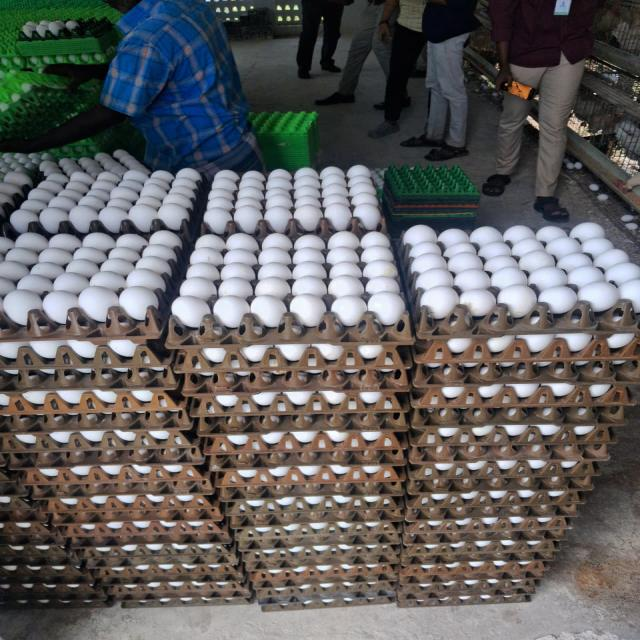egg_tray: (167, 232, 412, 413), (167, 232, 412, 372), (167, 232, 412, 370), (0, 231, 181, 413), (167, 231, 412, 348), (402, 223, 639, 339), (400, 481, 575, 605), (0, 230, 181, 341), (5, 150, 201, 236), (403, 487, 583, 580), (205, 417, 406, 500), (413, 333, 637, 406), (0, 369, 191, 454), (413, 332, 636, 404), (21, 464, 221, 544), (0, 388, 199, 468), (407, 423, 614, 496), (216, 448, 404, 528), (20, 450, 219, 524), (413, 301, 638, 366), (174, 343, 412, 404), (0, 389, 197, 462), (174, 344, 411, 404), (407, 426, 614, 492), (54, 495, 237, 568), (412, 380, 624, 440), (9, 432, 204, 496), (0, 493, 230, 547), (203, 166, 384, 234), (0, 368, 183, 432), (41, 484, 227, 546), (215, 449, 404, 510), (79, 537, 251, 604), (0, 339, 177, 404), (221, 465, 402, 528), (203, 417, 407, 470), (412, 360, 637, 408), (78, 541, 247, 604), (184, 369, 409, 416), (407, 442, 608, 494), (185, 368, 407, 414), (416, 300, 637, 346), (405, 458, 598, 510), (203, 424, 407, 473), (3, 153, 127, 233), (413, 362, 637, 406), (215, 450, 404, 502), (243, 536, 399, 598), (243, 537, 399, 598), (409, 414, 615, 459), (212, 450, 404, 498), (11, 452, 211, 498), (233, 516, 401, 570), (248, 543, 397, 603), (76, 536, 245, 586), (236, 520, 401, 570), (0, 430, 204, 470), (413, 331, 639, 367), (413, 360, 639, 396), (235, 522, 401, 571), (409, 442, 607, 483), (182, 369, 410, 404), (203, 431, 407, 470), (405, 488, 585, 532), (409, 424, 615, 462), (172, 343, 413, 375), (0, 410, 192, 450), (407, 480, 592, 520), (249, 549, 397, 598), (249, 556, 397, 605), (406, 487, 581, 528), (0, 366, 178, 406), (398, 559, 548, 606), (215, 464, 405, 501), (255, 494, 401, 542), (0, 542, 106, 608), (407, 458, 599, 494), (405, 490, 583, 528), (20, 464, 213, 499), (407, 405, 627, 434), (0, 368, 177, 404), (197, 406, 409, 436), (403, 516, 570, 554), (411, 382, 633, 410), (399, 561, 543, 604), (189, 390, 409, 418), (0, 339, 175, 374), (225, 494, 403, 528), (383, 165, 479, 228), (409, 418, 614, 447), (57, 514, 231, 548), (189, 390, 407, 417), (225, 495, 403, 528), (411, 382, 634, 408), (405, 488, 585, 520), (40, 494, 223, 525), (245, 527, 379, 568), (0, 557, 106, 608), (219, 473, 403, 502), (1, 388, 184, 417), (31, 580, 248, 604), (467, 445, 594, 486), (16, 16, 119, 66), (0, 560, 106, 608), (105, 574, 252, 608), (398, 572, 539, 607), (397, 572, 538, 607), (400, 559, 549, 592), (57, 520, 231, 548), (0, 469, 63, 546), (403, 516, 571, 544), (73, 542, 240, 570), (401, 535, 561, 564), (401, 538, 559, 565), (255, 574, 396, 604), (400, 558, 549, 586), (398, 576, 537, 606), (109, 580, 253, 608), (399, 560, 549, 586), (403, 524, 565, 548), (255, 575, 396, 602), (106, 578, 252, 603), (93, 562, 245, 586), (0, 152, 54, 218), (0, 583, 113, 608), (0, 582, 108, 608), (0, 504, 63, 548), (259, 592, 395, 612), (0, 534, 79, 568), (403, 578, 537, 596), (0, 559, 93, 584), (397, 591, 530, 608), (0, 493, 47, 538), (1, 544, 81, 568), (0, 594, 111, 610), (0, 152, 55, 182), (122, 596, 253, 608), (30, 488, 77, 520), (0, 493, 46, 522), (19, 20, 79, 41), (282, 218, 339, 239), (0, 466, 27, 503), (0, 468, 27, 502), (342, 218, 387, 236), (464, 460, 514, 474), (586, 383, 616, 404), (248, 221, 279, 241), (401, 576, 430, 597), (307, 508, 348, 521), (147, 482, 171, 504), (429, 462, 455, 482), (566, 333, 605, 346), (301, 432, 342, 444), (214, 222, 244, 238), (227, 500, 264, 512), (409, 505, 437, 520), (31, 342, 65, 353), (620, 212, 638, 231), (234, 518, 253, 536), (371, 168, 385, 192), (259, 527, 273, 547), (316, 544, 339, 556), (49, 498, 74, 509), (433, 448, 455, 460), (407, 480, 425, 494), (587, 446, 605, 460), (13, 472, 27, 490), (505, 425, 527, 436), (127, 160, 147, 172), (511, 501, 529, 514), (441, 386, 459, 399), (529, 334, 554, 343), (211, 457, 231, 468), (77, 452, 95, 464), (435, 572, 456, 582), (44, 216, 57, 232), (609, 334, 635, 342), (25, 439, 49, 447), (461, 448, 477, 460), (383, 434, 400, 445), (219, 474, 237, 484), (169, 450, 185, 461), (11, 590, 31, 598), (339, 530, 352, 542), (478, 426, 493, 436), (437, 342, 449, 354), (519, 426, 537, 434), (111, 452, 125, 462), (0, 453, 8, 468), (541, 425, 553, 435), (410, 464, 427, 471), (0, 454, 8, 468), (367, 544, 381, 552), (102, 482, 113, 492), (388, 400, 399, 410), (486, 510, 507, 515), (442, 464, 455, 472), (52, 516, 65, 524), (201, 224, 211, 234), (0, 343, 14, 350), (412, 536, 426, 543), (484, 582, 498, 589), (43, 468, 59, 474), (541, 494, 550, 504), (533, 464, 542, 474), (69, 188, 79, 197), (472, 462, 481, 472), (59, 433, 77, 438), (410, 526, 422, 533), (77, 514, 87, 522), (411, 522, 427, 527), (411, 546, 424, 552), (422, 511, 433, 518), (417, 450, 423, 462), (590, 439, 599, 447), (611, 420, 623, 426), (443, 430, 455, 436), (441, 504, 455, 509), (385, 356, 399, 361), (564, 430, 575, 436), (69, 498, 77, 506), (327, 346, 343, 350), (627, 345, 634, 354), (284, 434, 294, 440), (45, 491, 55, 497), (11, 538, 23, 543), (371, 298, 377, 308), (55, 220, 67, 225), (554, 522, 564, 528), (483, 519, 493, 525), (13, 517, 25, 522), (417, 416, 425, 423), (417, 554, 424, 562), (13, 399, 21, 406), (42, 469, 53, 474), (197, 567, 208, 572), (52, 528, 61, 534), (62, 487, 68, 496), (99, 453, 109, 458), (387, 556, 397, 561), (359, 439, 367, 445), (229, 436, 237, 442), (408, 514, 416, 520), (500, 460, 512, 464), (573, 487, 589, 490), (211, 566, 219, 572), (471, 561, 483, 565), (476, 544, 488, 548), (527, 431, 532, 440), (447, 562, 462, 565), (0, 540, 11, 544), (101, 486, 112, 490), (0, 480, 3, 494), (121, 503, 127, 510), (17, 474, 24, 480), (5, 238, 11, 245), (566, 478, 571, 486), (385, 317, 395, 321), (225, 568, 235, 572), (401, 576, 406, 584), (182, 352, 187, 360), (175, 569, 184, 573), (21, 434, 30, 438), (298, 518, 305, 523), (155, 505, 162, 510), (297, 501, 304, 506), (523, 561, 534, 564), (76, 32, 84, 36), (559, 470, 563, 478), (19, 182, 27, 186), (447, 338, 455, 342), (378, 514, 386, 518), (232, 600, 242, 603), (89, 343, 95, 348), (89, 436, 95, 441), (473, 562, 483, 565), (283, 345, 293, 348), (376, 434, 380, 441), (487, 484, 494, 488), (616, 422, 623, 426), (87, 492, 94, 496), (72, 468, 79, 472), (350, 394, 354, 401), (244, 503, 251, 507), (225, 464, 232, 468), (433, 520, 447, 522), (0, 523, 9, 526), (535, 512, 544, 515), (70, 391, 79, 394), (140, 454, 149, 457), (424, 563, 433, 566), (122, 503, 127, 508), (160, 486, 165, 491), (267, 460, 275, 463), (553, 478, 557, 484), (587, 426, 593, 430), (603, 362, 609, 366), (387, 362, 393, 366), (31, 560, 37, 564), (43, 460, 47, 466), (339, 424, 345, 428), (407, 562, 419, 564), (405, 524, 408, 531), (78, 490, 83, 494), (21, 456, 26, 460), (16, 440, 21, 444), (467, 582, 477, 584), (486, 338, 491, 342), (555, 427, 559, 432), (69, 443, 75, 446), (409, 465, 411, 474), (60, 440, 66, 443), (5, 517, 11, 520), (356, 546, 365, 548), (40, 540, 49, 542), (81, 450, 84, 456), (53, 206, 59, 209), (114, 570, 117, 576), (451, 520, 454, 526), (439, 578, 443, 582), (115, 498, 119, 502), (139, 514, 143, 518), (161, 496, 165, 500), (61, 434, 69, 436), (291, 468, 295, 472), (225, 596, 233, 598), (451, 399, 456, 402), (472, 363, 477, 366), (37, 428, 42, 431), (159, 419, 164, 422), (496, 477, 501, 480), (309, 518, 312, 523), (177, 485, 180, 490), (166, 571, 171, 574), (468, 575, 473, 578), (52, 460, 57, 463), (0, 401, 5, 404), (240, 416, 243, 421), (230, 491, 235, 494), (589, 350, 592, 355), (211, 602, 226, 603), (333, 444, 336, 448), (475, 512, 481, 514), (569, 504, 575, 506), (124, 436, 128, 439), (72, 490, 75, 494), (140, 476, 143, 480), (469, 548, 472, 552), (405, 539, 409, 542), (207, 489, 211, 492), (63, 532, 67, 535), (309, 504, 312, 508), (432, 349, 435, 353), (407, 566, 413, 568), (245, 478, 251, 480), (283, 518, 287, 521), (372, 540, 378, 542), (335, 487, 339, 490), (627, 265, 633, 267), (541, 522, 543, 528), (36, 602, 39, 606), (405, 524, 407, 530), (58, 426, 63, 428), (407, 500, 409, 505), (461, 601, 466, 603), (543, 461, 545, 466), (592, 380, 597, 382), (13, 192, 18, 194), (527, 350, 529, 355), (138, 458, 141, 461), (483, 474, 486, 477), (416, 410, 419, 413), (67, 509, 70, 512), (114, 498, 117, 501), (87, 487, 90, 490), (347, 498, 350, 501), (280, 361, 283, 364), (217, 602, 226, 603), (326, 467, 329, 470), (49, 534, 52, 537), (268, 438, 272, 440), (471, 504, 475, 506), (477, 504, 481, 506), (459, 504, 463, 506), (509, 398, 513, 400), (549, 364, 553, 366), (133, 344, 135, 348), (46, 532, 50, 534), (558, 456, 562, 458), (77, 488, 81, 490), (309, 512, 313, 514), (617, 402, 621, 404), (85, 178, 87, 182), (408, 566, 412, 568), (515, 522, 519, 524), (452, 428, 456, 430), (157, 496, 161, 498), (79, 488, 81, 492), (115, 396, 117, 400), (187, 448, 189, 452), (343, 406, 347, 408), (357, 518, 361, 520), (271, 461, 275, 463), (289, 592, 293, 594), (303, 438, 307, 440), (422, 325, 424, 329), (240, 459, 242, 462), (371, 442, 374, 444), (521, 440, 527, 441), (443, 400, 449, 401), (171, 385, 174, 387), (272, 522, 275, 524), (367, 487, 369, 490), (150, 508, 153, 510), (127, 489, 133, 490), (110, 469, 112, 472), (76, 562, 79, 564), (116, 152, 119, 154), (228, 576, 231, 578), (507, 461, 509, 464), (556, 428, 559, 430), (529, 428, 532, 430), (497, 427, 503, 428), (145, 514, 147, 517), (105, 488, 108, 490), (480, 546, 483, 548), (23, 456, 26, 458), (270, 419, 272, 422), (524, 346, 526, 349), (488, 585, 490, 588), (275, 407, 277, 410), (259, 503, 261, 506), (263, 608, 266, 610), (484, 428, 486, 431), (585, 362, 590, 363), (447, 594, 452, 595), (32, 562, 36, 563), (300, 352, 302, 354), (489, 590, 491, 592), (470, 369, 474, 370), (99, 438, 101, 440), (581, 478, 583, 480), (14, 496, 15, 500), (140, 516, 142, 518), (178, 502, 180, 504), (97, 496, 99, 498), (207, 490, 209, 492), (61, 434, 63, 436), (185, 300, 187, 302), (519, 556, 521, 558), (483, 540, 485, 542), (21, 458, 23, 460), (199, 430, 201, 432), (299, 504, 301, 506), (339, 480, 341, 482), (248, 474, 252, 475), (503, 355, 505, 357), (483, 350, 485, 352), (456, 338, 458, 340), (457, 563, 461, 564), (414, 305, 416, 307), (275, 370, 277, 372), (189, 348, 191, 350), (355, 470, 359, 471), (27, 522, 29, 524), (235, 602, 239, 603), (505, 544, 507, 546), (245, 596, 247, 598), (194, 489, 197, 490), (514, 433, 517, 434), (590, 427, 593, 428), (138, 509, 141, 510), (74, 181, 77, 182), (519, 552, 520, 555), (71, 437, 74, 438), (503, 354, 506, 355), (183, 489, 185, 490), (307, 454, 308, 456), (331, 440, 332, 442), (533, 418, 534, 420), (496, 441, 497, 443), (501, 439, 502, 441), (470, 436, 472, 437), (602, 381, 604, 382), (546, 481, 547, 483), (456, 475, 457, 477), (410, 473, 411, 475), (448, 420, 450, 421), (479, 449, 481, 450), (193, 489, 195, 490), (83, 485, 85, 486), (54, 202, 55, 204), (531, 540, 533, 541), (493, 464, 494, 466), (69, 516, 71, 517), (160, 398, 161, 400), (29, 396, 31, 397), (519, 600, 521, 601), (72, 438, 74, 439), (276, 364, 277, 366), (440, 398, 441, 400), (431, 398, 433, 399), (469, 576, 471, 577), (493, 434, 494, 435), (187, 440, 188, 441), (443, 453, 444, 454), (173, 501, 174, 502), (58, 462, 59, 463), (520, 583, 521, 584), (280, 429, 281, 430), (458, 358, 459, 359), (469, 341, 470, 342), (327, 600, 328, 601), (247, 549, 248, 550), (451, 316, 452, 317), (416, 585, 417, 586), (320, 592, 321, 592), (351, 537, 353, 537), (186, 490, 187, 490), (234, 461, 235, 461), (338, 445, 339, 445), (354, 443, 356, 443), (240, 437, 241, 437), (280, 434, 282, 434), (89, 36, 90, 36), (83, 21, 83, 21), (440, 514, 442, 514), (530, 514, 532, 514), (496, 505, 499, 505), (512, 468, 514, 468), (543, 461, 543, 462), (402, 605, 408, 605), (487, 601, 488, 601), (410, 601, 413, 601), (536, 576, 539, 576), (421, 570, 421, 570), (450, 565, 452, 565), (544, 467, 545, 467), (458, 465, 459, 465), (505, 452, 507, 452), (363, 397, 364, 397), (430, 398, 432, 398), (599, 374, 601, 374), (365, 537, 365, 537), (190, 439, 192, 439), (36, 399, 37, 399), (54, 448, 55, 448), (125, 427, 126, 427), (69, 392, 73, 392), (74, 390, 77, 390), (249, 470, 250, 470), (476, 487, 479, 487), (427, 457, 428, 457), (31, 514, 34, 514), (5, 457, 6, 457), (495, 458, 496, 458), (273, 396, 274, 396), (3, 497, 6, 497), (305, 516, 305, 517), (90, 543, 92, 543), (309, 554, 310, 554), (129, 508, 130, 508), (139, 444, 139, 446), (139, 439, 141, 439), (172, 468, 174, 468), (54, 457, 55, 457), (160, 450, 161, 450), (274, 567, 275, 567), (11, 561, 12, 561), (25, 548, 26, 548), (45, 232, 45, 232), (458, 521, 462, 521), (543, 462, 543, 463), (444, 428, 446, 428), (91, 356, 92, 356), (0, 490, 1, 490), (120, 518, 121, 518), (183, 490, 185, 490), (27, 464, 27, 466), (0, 361, 1, 361), (531, 592, 532, 592), (530, 585, 532, 585), (409, 583, 410, 583), (453, 570, 454, 570), (443, 567, 443, 569), (412, 568, 413, 568), (76, 436, 77, 436), (23, 436, 23, 436), (0, 343, 1, 343), (214, 432, 215, 432), (243, 425, 244, 425), (309, 507, 310, 507), (231, 498, 234, 498), (347, 488, 348, 488), (342, 488, 344, 488), (465, 341, 465, 341), (453, 563, 455, 563), (371, 508, 372, 508), (238, 465, 240, 465), (548, 481, 550, 481), (264, 594, 265, 594), (254, 532, 255, 532), (579, 305, 579, 305), (466, 363, 469, 363), (247, 602, 247, 603), (249, 593, 249, 595), (469, 572, 472, 572), (521, 561, 522, 561), (496, 559, 498, 559), (235, 597, 237, 597)
